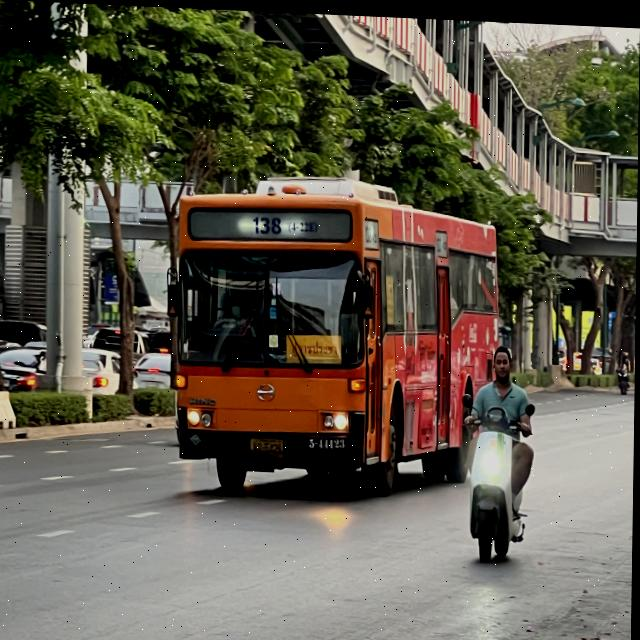BMTA-bus: (156, 160, 509, 501)
Bus Line Number: (246, 207, 323, 238)
Bus Side Number: (308, 431, 350, 449)
Destination Sign: (285, 331, 346, 360)
